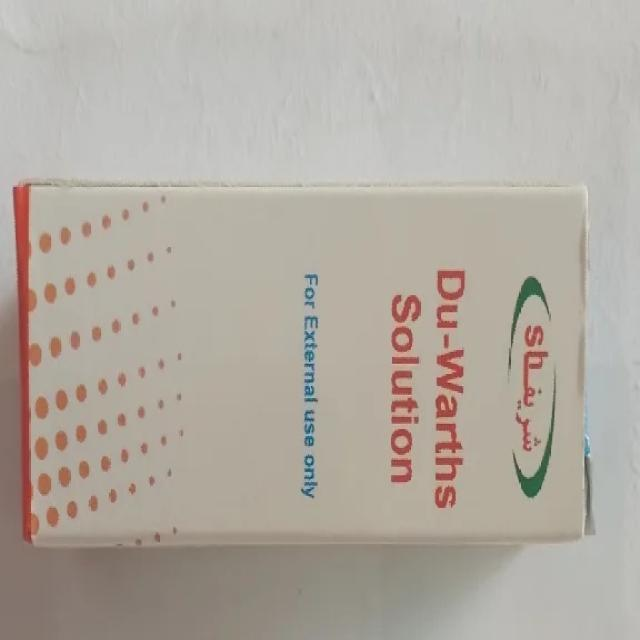drug-name: (387, 253, 470, 516)
